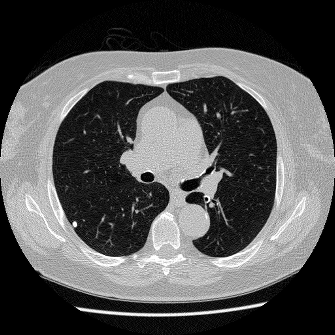nodule: (72, 221, 78, 227)
